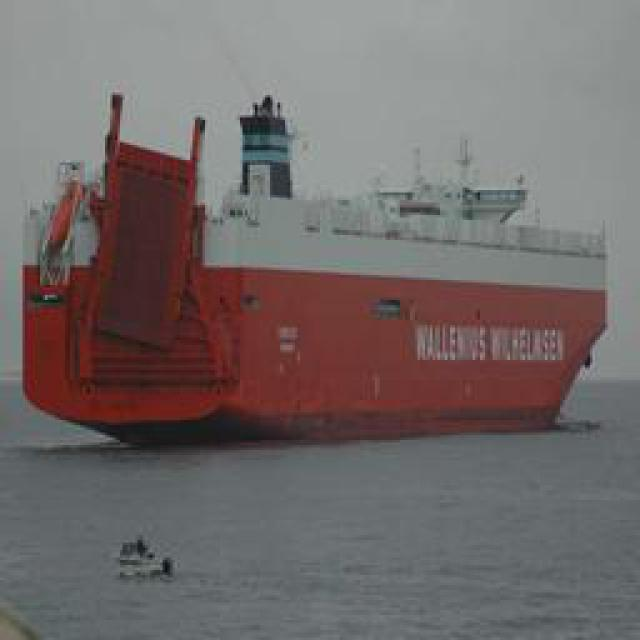Ship: (12, 79, 640, 445)
